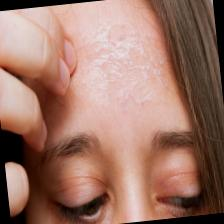Dry: (32, 0, 204, 224)
